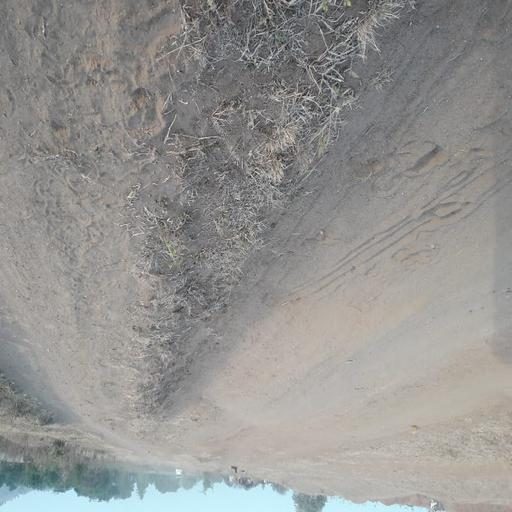vehicle_track: (186, 1, 511, 429), (0, 1, 175, 450)
